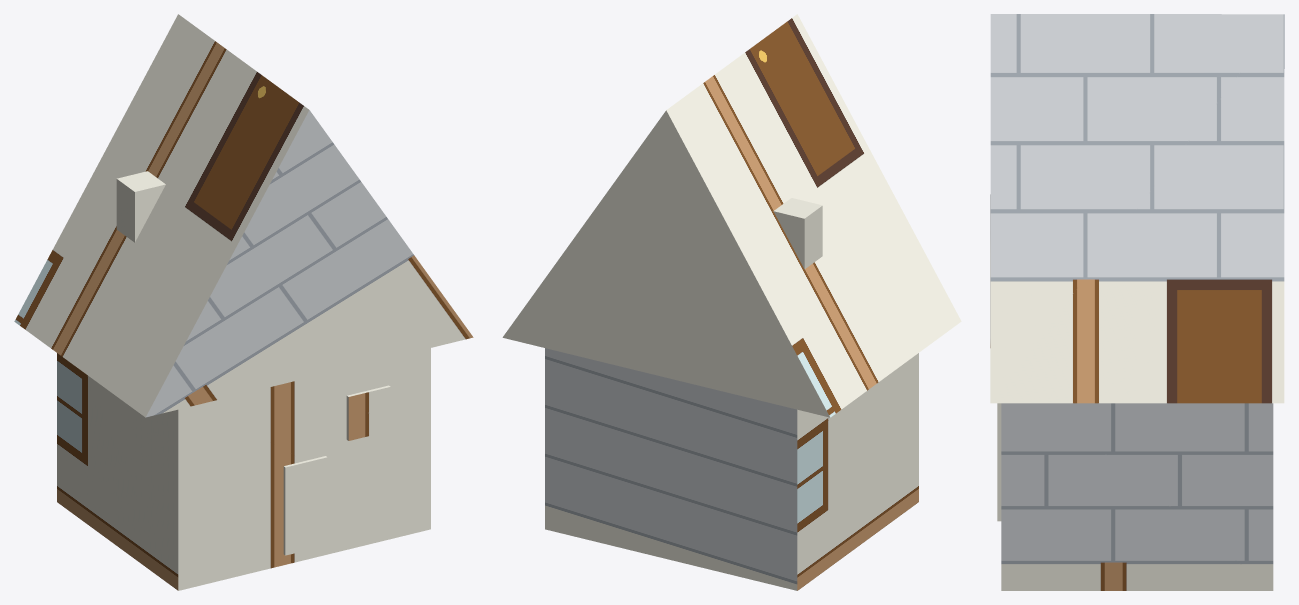
The model's file is LowPoly_House.glb.
The picture shows the model from 3 angles, left to right: view 1: azimuth 30°, elevation 25°; view 2: azimuth 150°, elevation 25°; view 3: azimuth 270°, elevation 25°; orthographic projection. The views are drawn at different scales.
Parts seen in each view (by area): view 1: LowPoly_House; view 2: LowPoly_House; view 3: LowPoly_House.
Part boxes in pixels (x1,y1,x2,y2): LowPoly_House: (14, 14, 473, 590); LowPoly_House: (502, 14, 961, 590); LowPoly_House: (990, 14, 1284, 590).
Bounding box in the file's own units: 3.12 × 4.12 × 2.16.
1 material, 1 textured.
